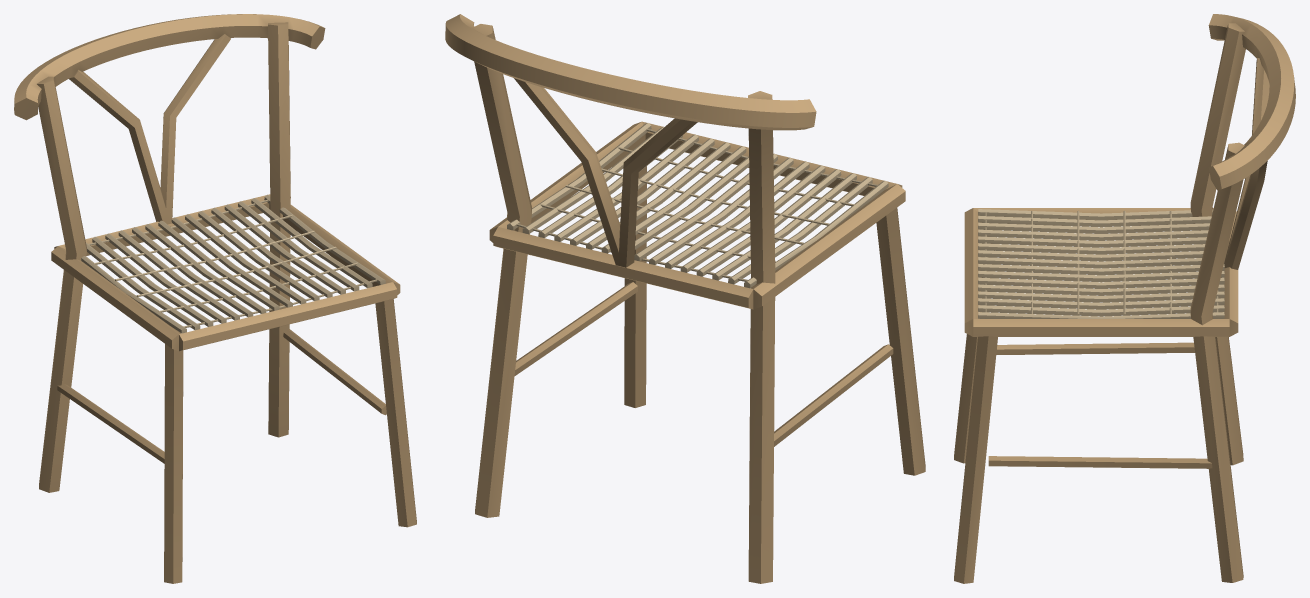
Rendered from dining-chair-lod1.glb.
3 views of the same model, side by side, from view 1: azimuth 30°, elevation 25°; view 2: azimuth 150°, elevation 25°; view 3: azimuth 270°, elevation 25° (orthographic). The views are drawn at different scales.
Parts seen in each view (by area): view 1: dining-chair.lod1__dining light oak, dining-chair.lod1__dining woven cord; view 2: dining-chair.lod1__dining light oak, dining-chair.lod1__dining woven cord; view 3: dining-chair.lod1__dining light oak, dining-chair.lod1__dining woven cord.
Boxes of the visible parts, x1,y1,x2,y2 form: dining-chair.lod1__dining light oak: [14, 14, 416, 583]; dining-chair.lod1__dining woven cord: [81, 194, 385, 333]; dining-chair.lod1__dining light oak: [445, 14, 925, 583]; dining-chair.lod1__dining woven cord: [507, 123, 888, 288]; dining-chair.lod1__dining light oak: [954, 14, 1295, 583]; dining-chair.lod1__dining woven cord: [978, 209, 1224, 318].
Size of the model in its own units: 0.609 by 0.7803 by 0.5467.
